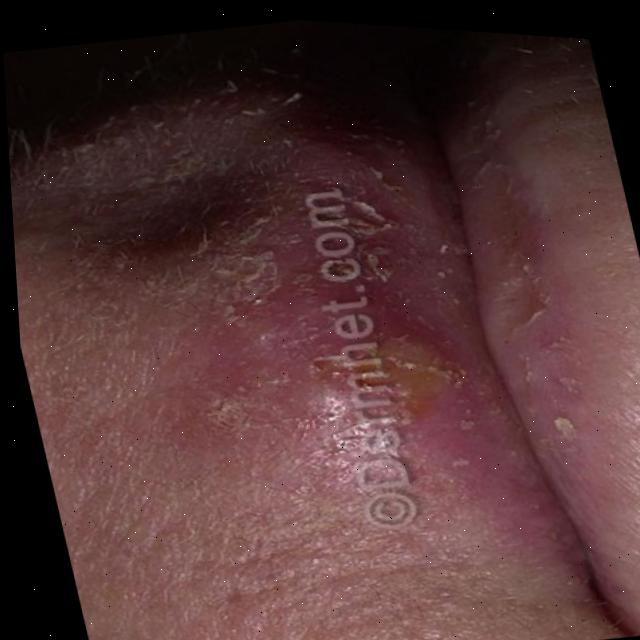Shingles: (285, 320, 458, 468)
